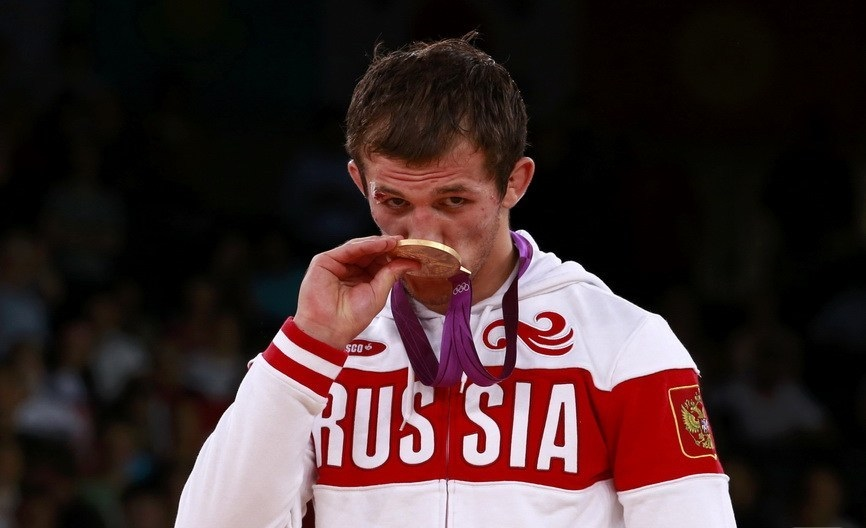face: (369, 133, 504, 297)
